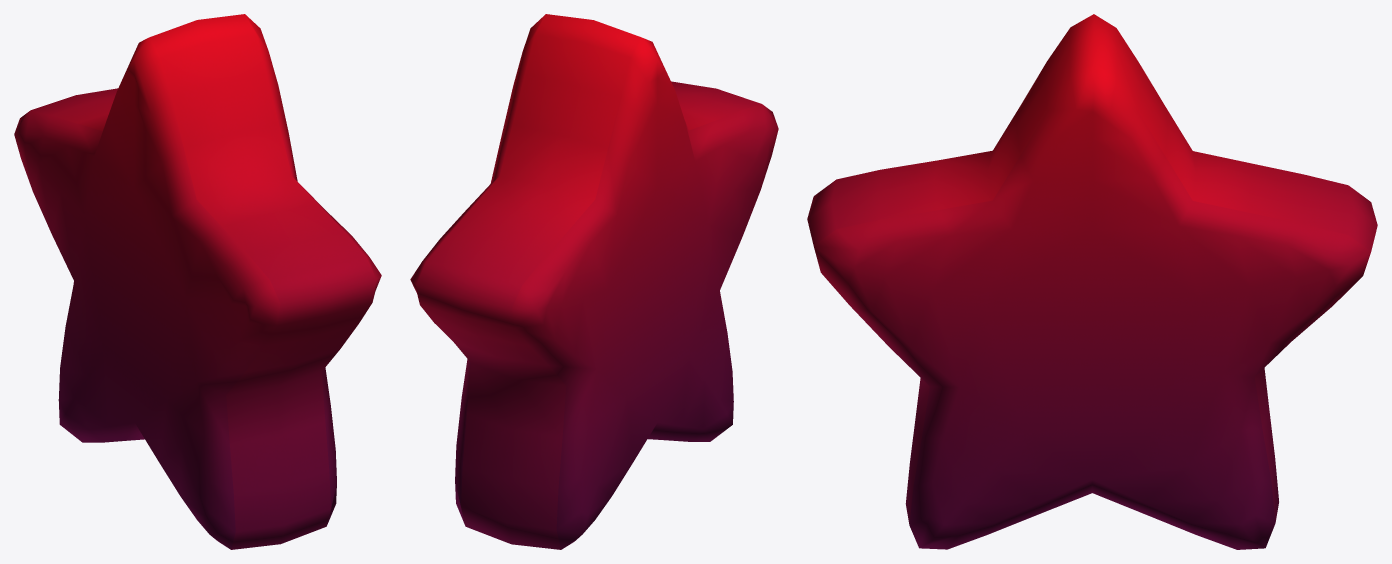
Rendered from Star_2.fbx.
3 views of the same model, side by side, from view 1: azimuth 30°, elevation 25°; view 2: azimuth 150°, elevation 25°; view 3: azimuth 270°, elevation 25° (orthographic). The views are drawn at different scales.
Parts seen in each view (by area): view 1: Stars_2; view 2: Stars_2; view 3: Stars_2.
Boxes of the visible parts, <box> form: Stars_2: <box>14,14,381,549</box>; Stars_2: <box>410,14,778,549</box>; Stars_2: <box>807,14,1377,549</box>.
Size of the model in its own units: 35.49 by 124 by 130.
